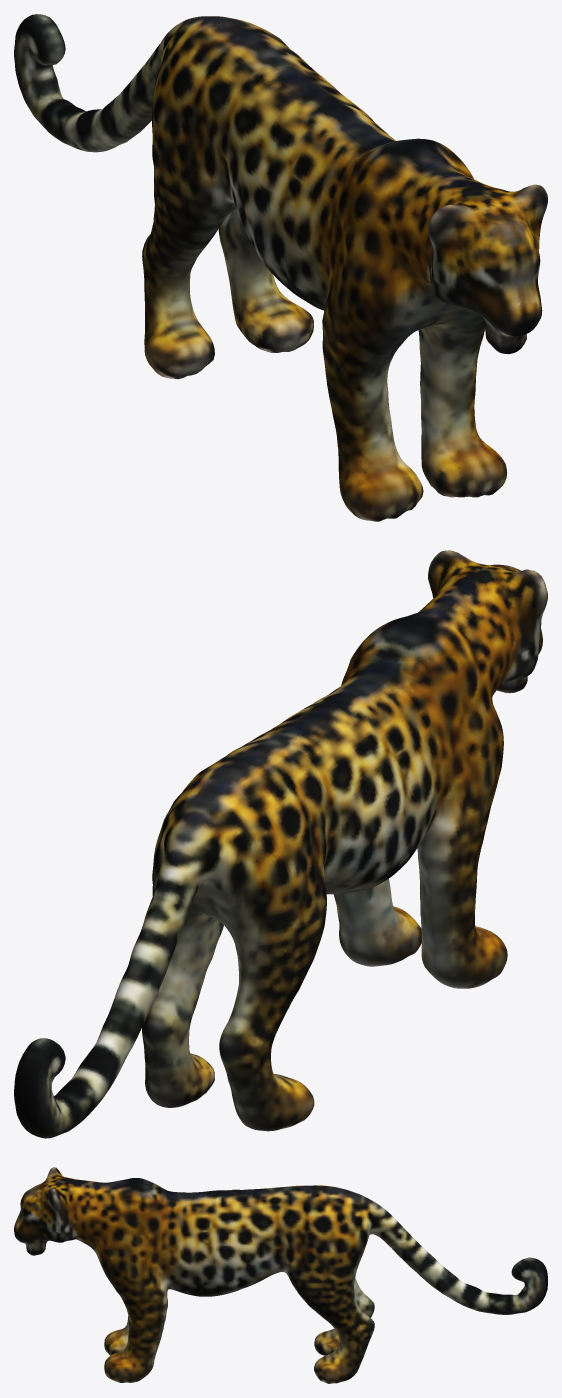
The model's file is asset.glb.
The picture shows the model from 3 angles, top to bottom: view 1: azimuth 30°, elevation 25°; view 2: azimuth 150°, elevation 25°; view 3: azimuth 270°, elevation 25°; orthographic projection. The views are drawn at different scales.
Bounding box in the file's own units: 0.1813 × 0.3888 × 0.9894.
1 material, 1 textured.
